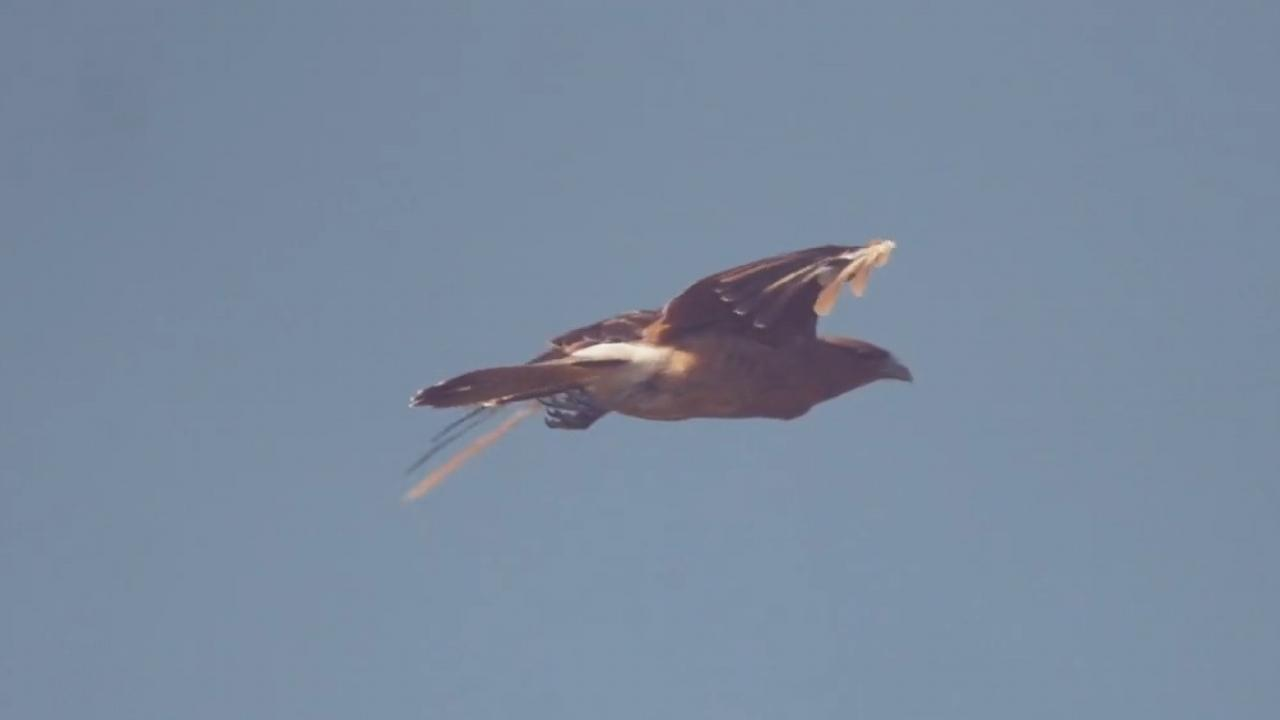Bird: (377, 226, 924, 515)
